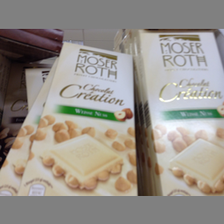chocolate: (28, 42, 138, 196), (138, 30, 224, 194)
